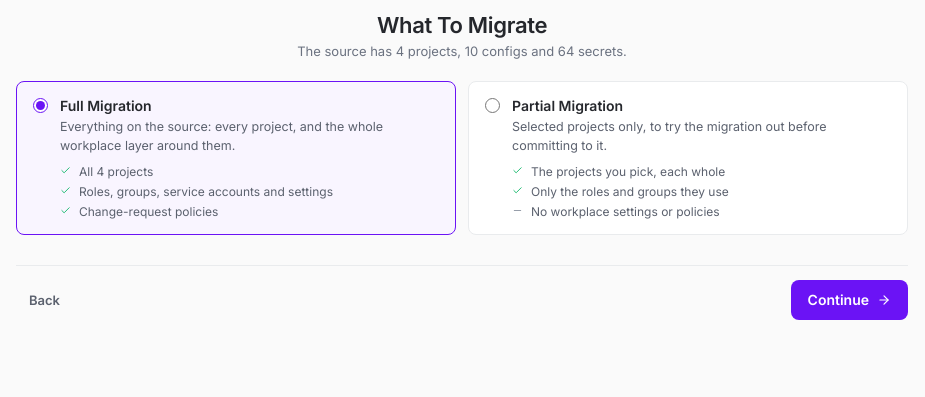
Test: ScopePage › reports a scope the server refused
Step 1. Click the button "Continue" → coordinates (849, 300), box [791,280,908,320]
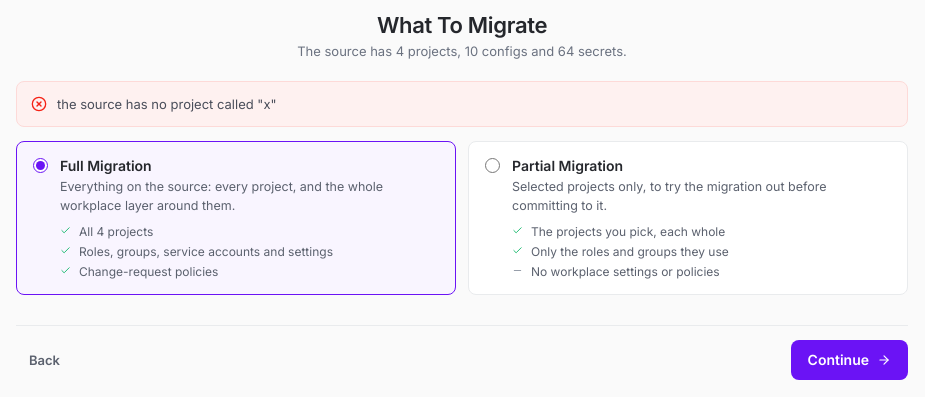
Expected: the text "the source has no project called \"x\"" is shown, [57,94,276,114]
